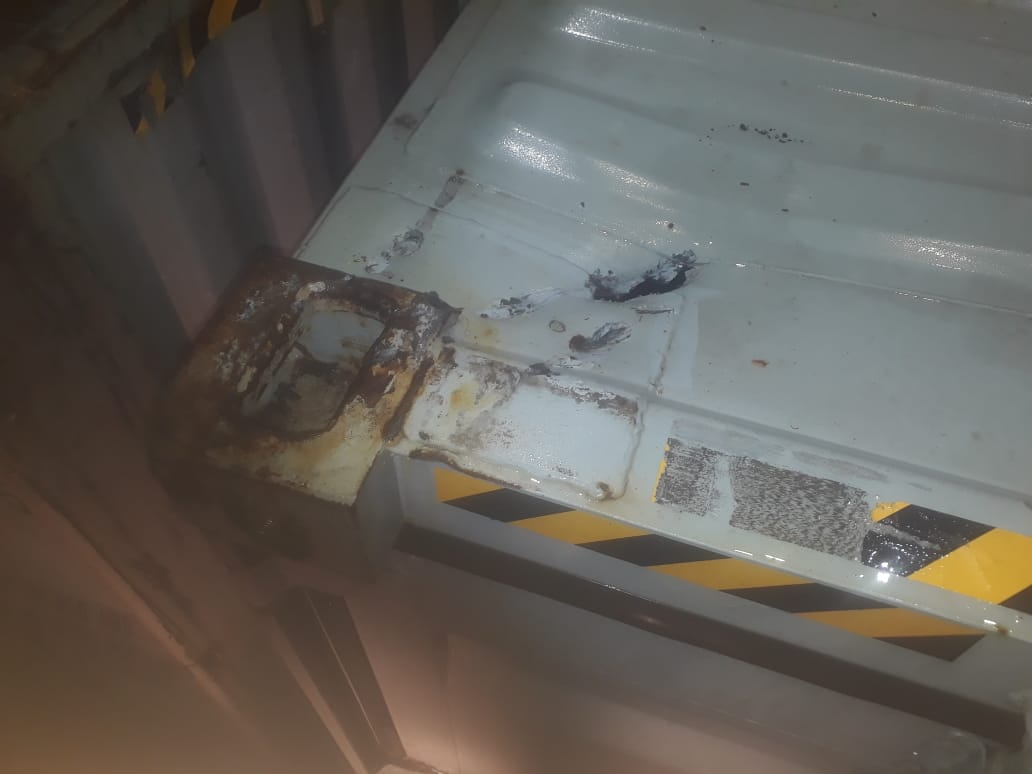hole: (601, 215, 731, 324)
